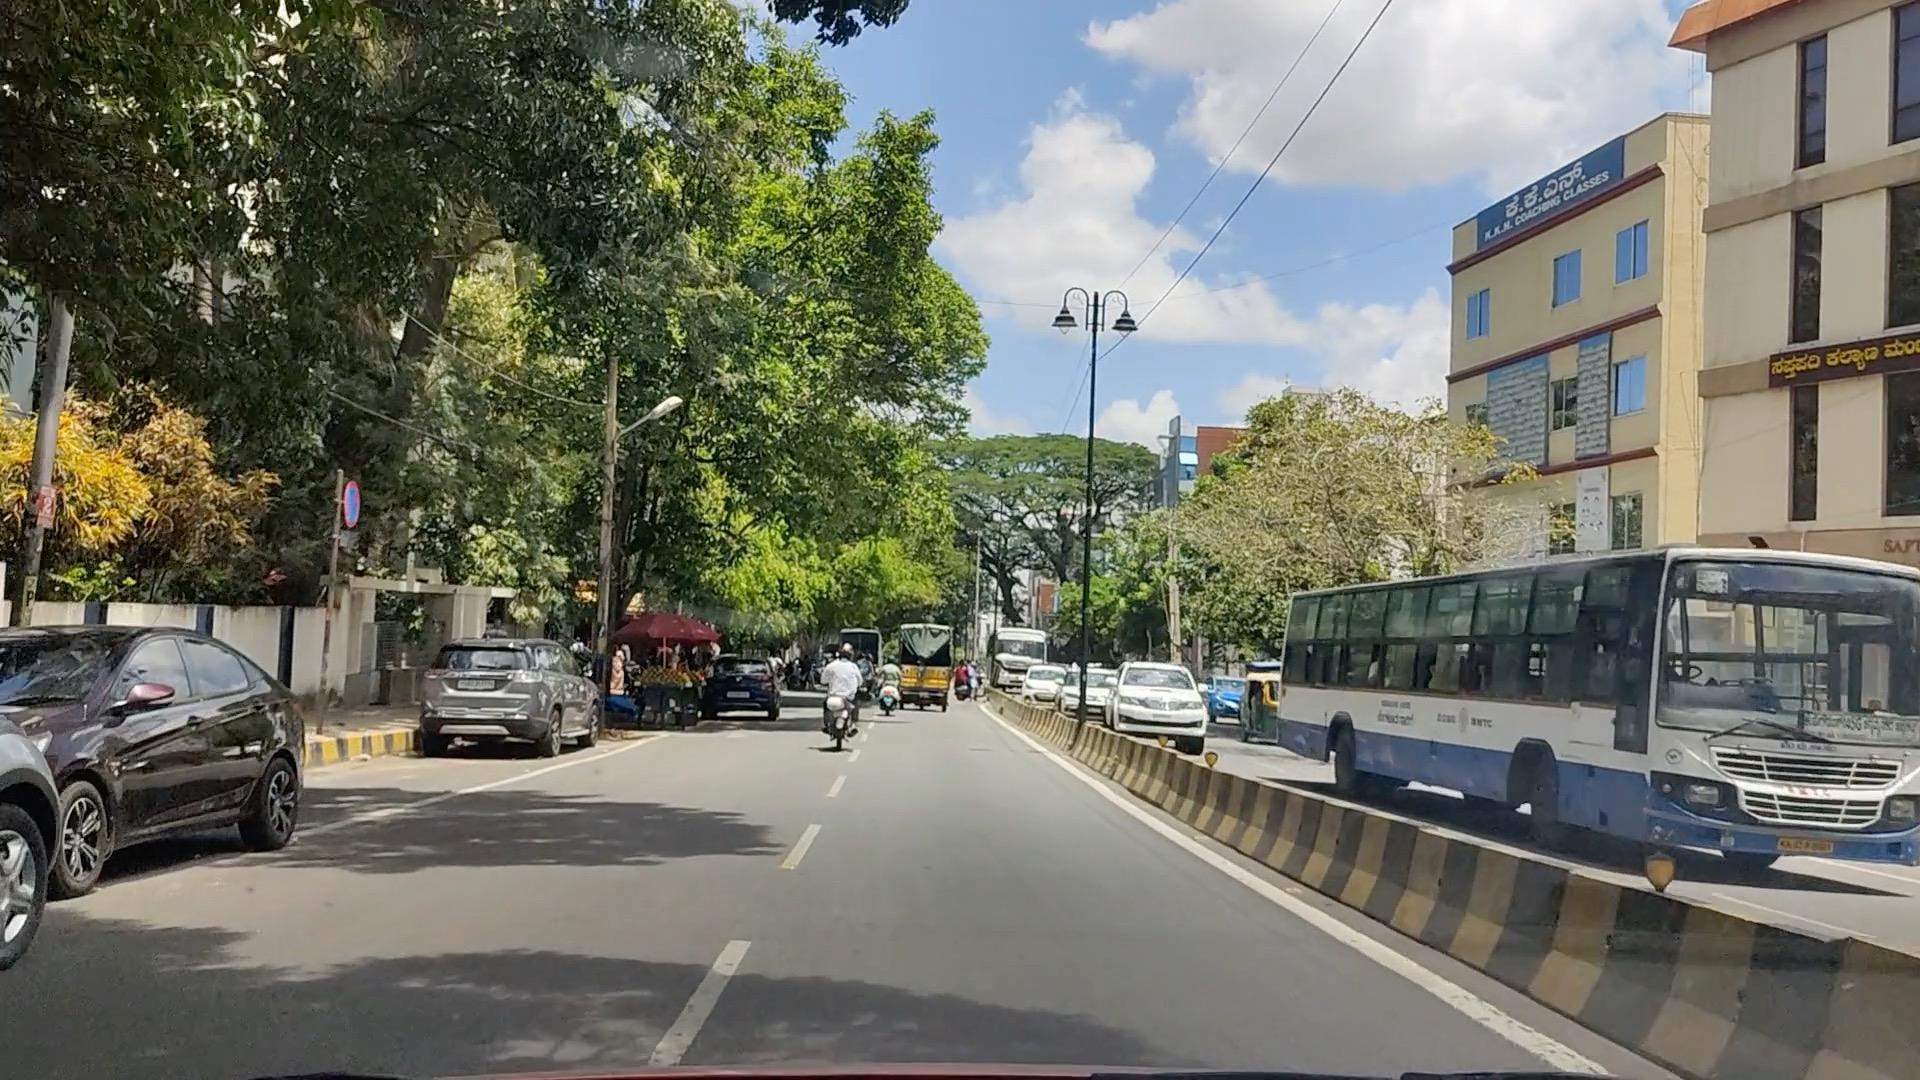LMV: (427, 626, 574, 760), (787, 630, 872, 744)
